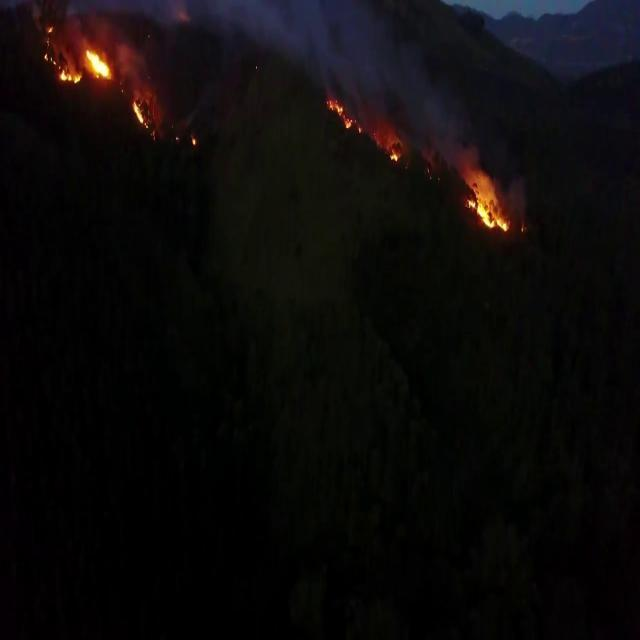Fire: (42, 23, 112, 85), (466, 194, 510, 236), (326, 97, 364, 137), (132, 98, 150, 134)
Smoke: (212, 1, 526, 230)
